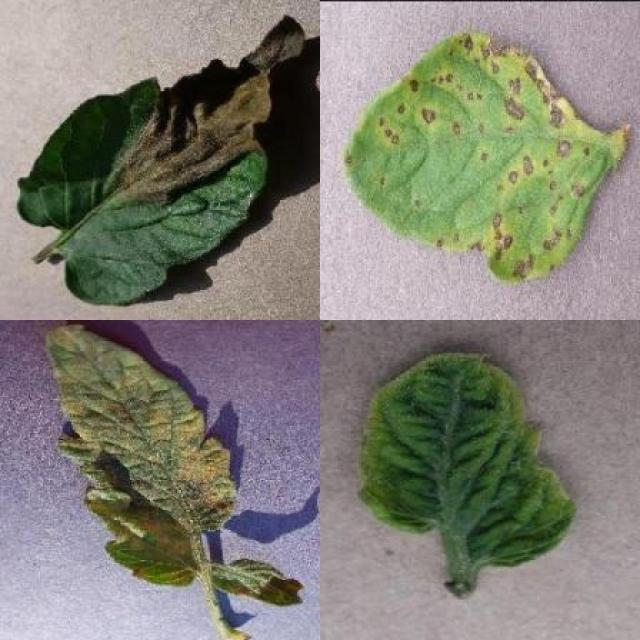Late Blight: (17, 12, 310, 305)
Leaf Mold: (46, 322, 238, 588)
Septoria: (342, 30, 628, 283)
Yellow Leaf Curl Virus: (357, 350, 577, 570)
